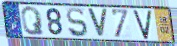7: (111, 8, 130, 39)
8: (45, 7, 64, 37)
Q: (20, 6, 46, 37)
S: (65, 7, 90, 39)
V: (86, 8, 109, 39), (132, 9, 153, 41)
